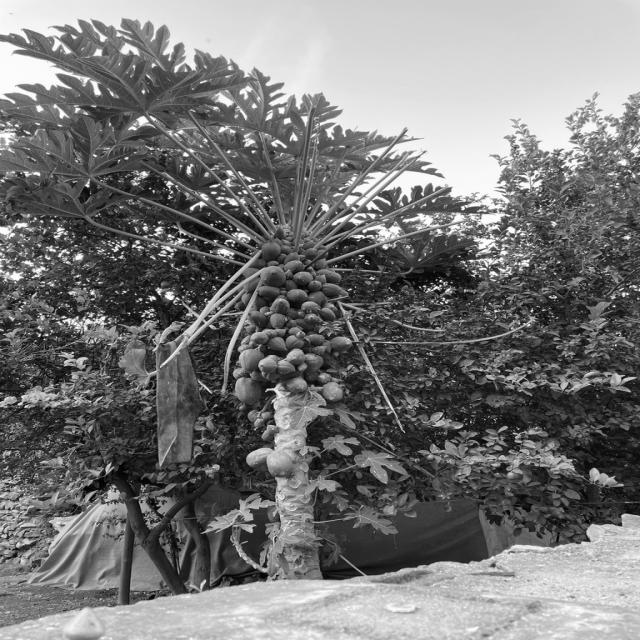Papaya-Tree: (23, 11, 517, 573)
